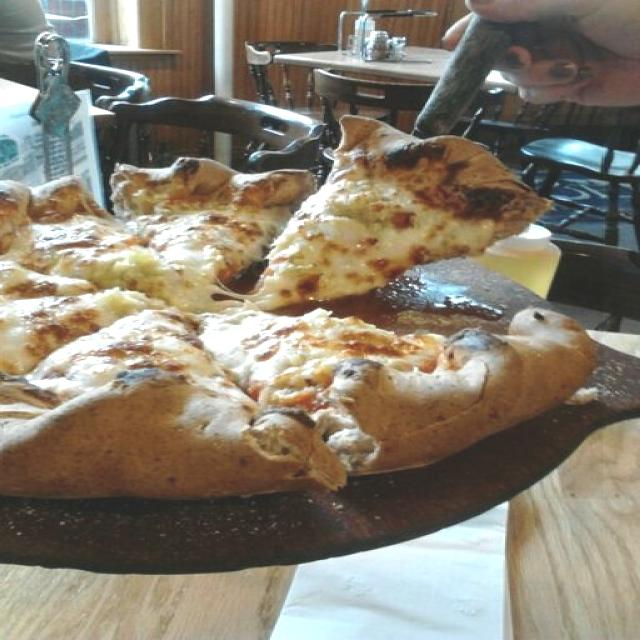pizza: (3, 115, 603, 499)
